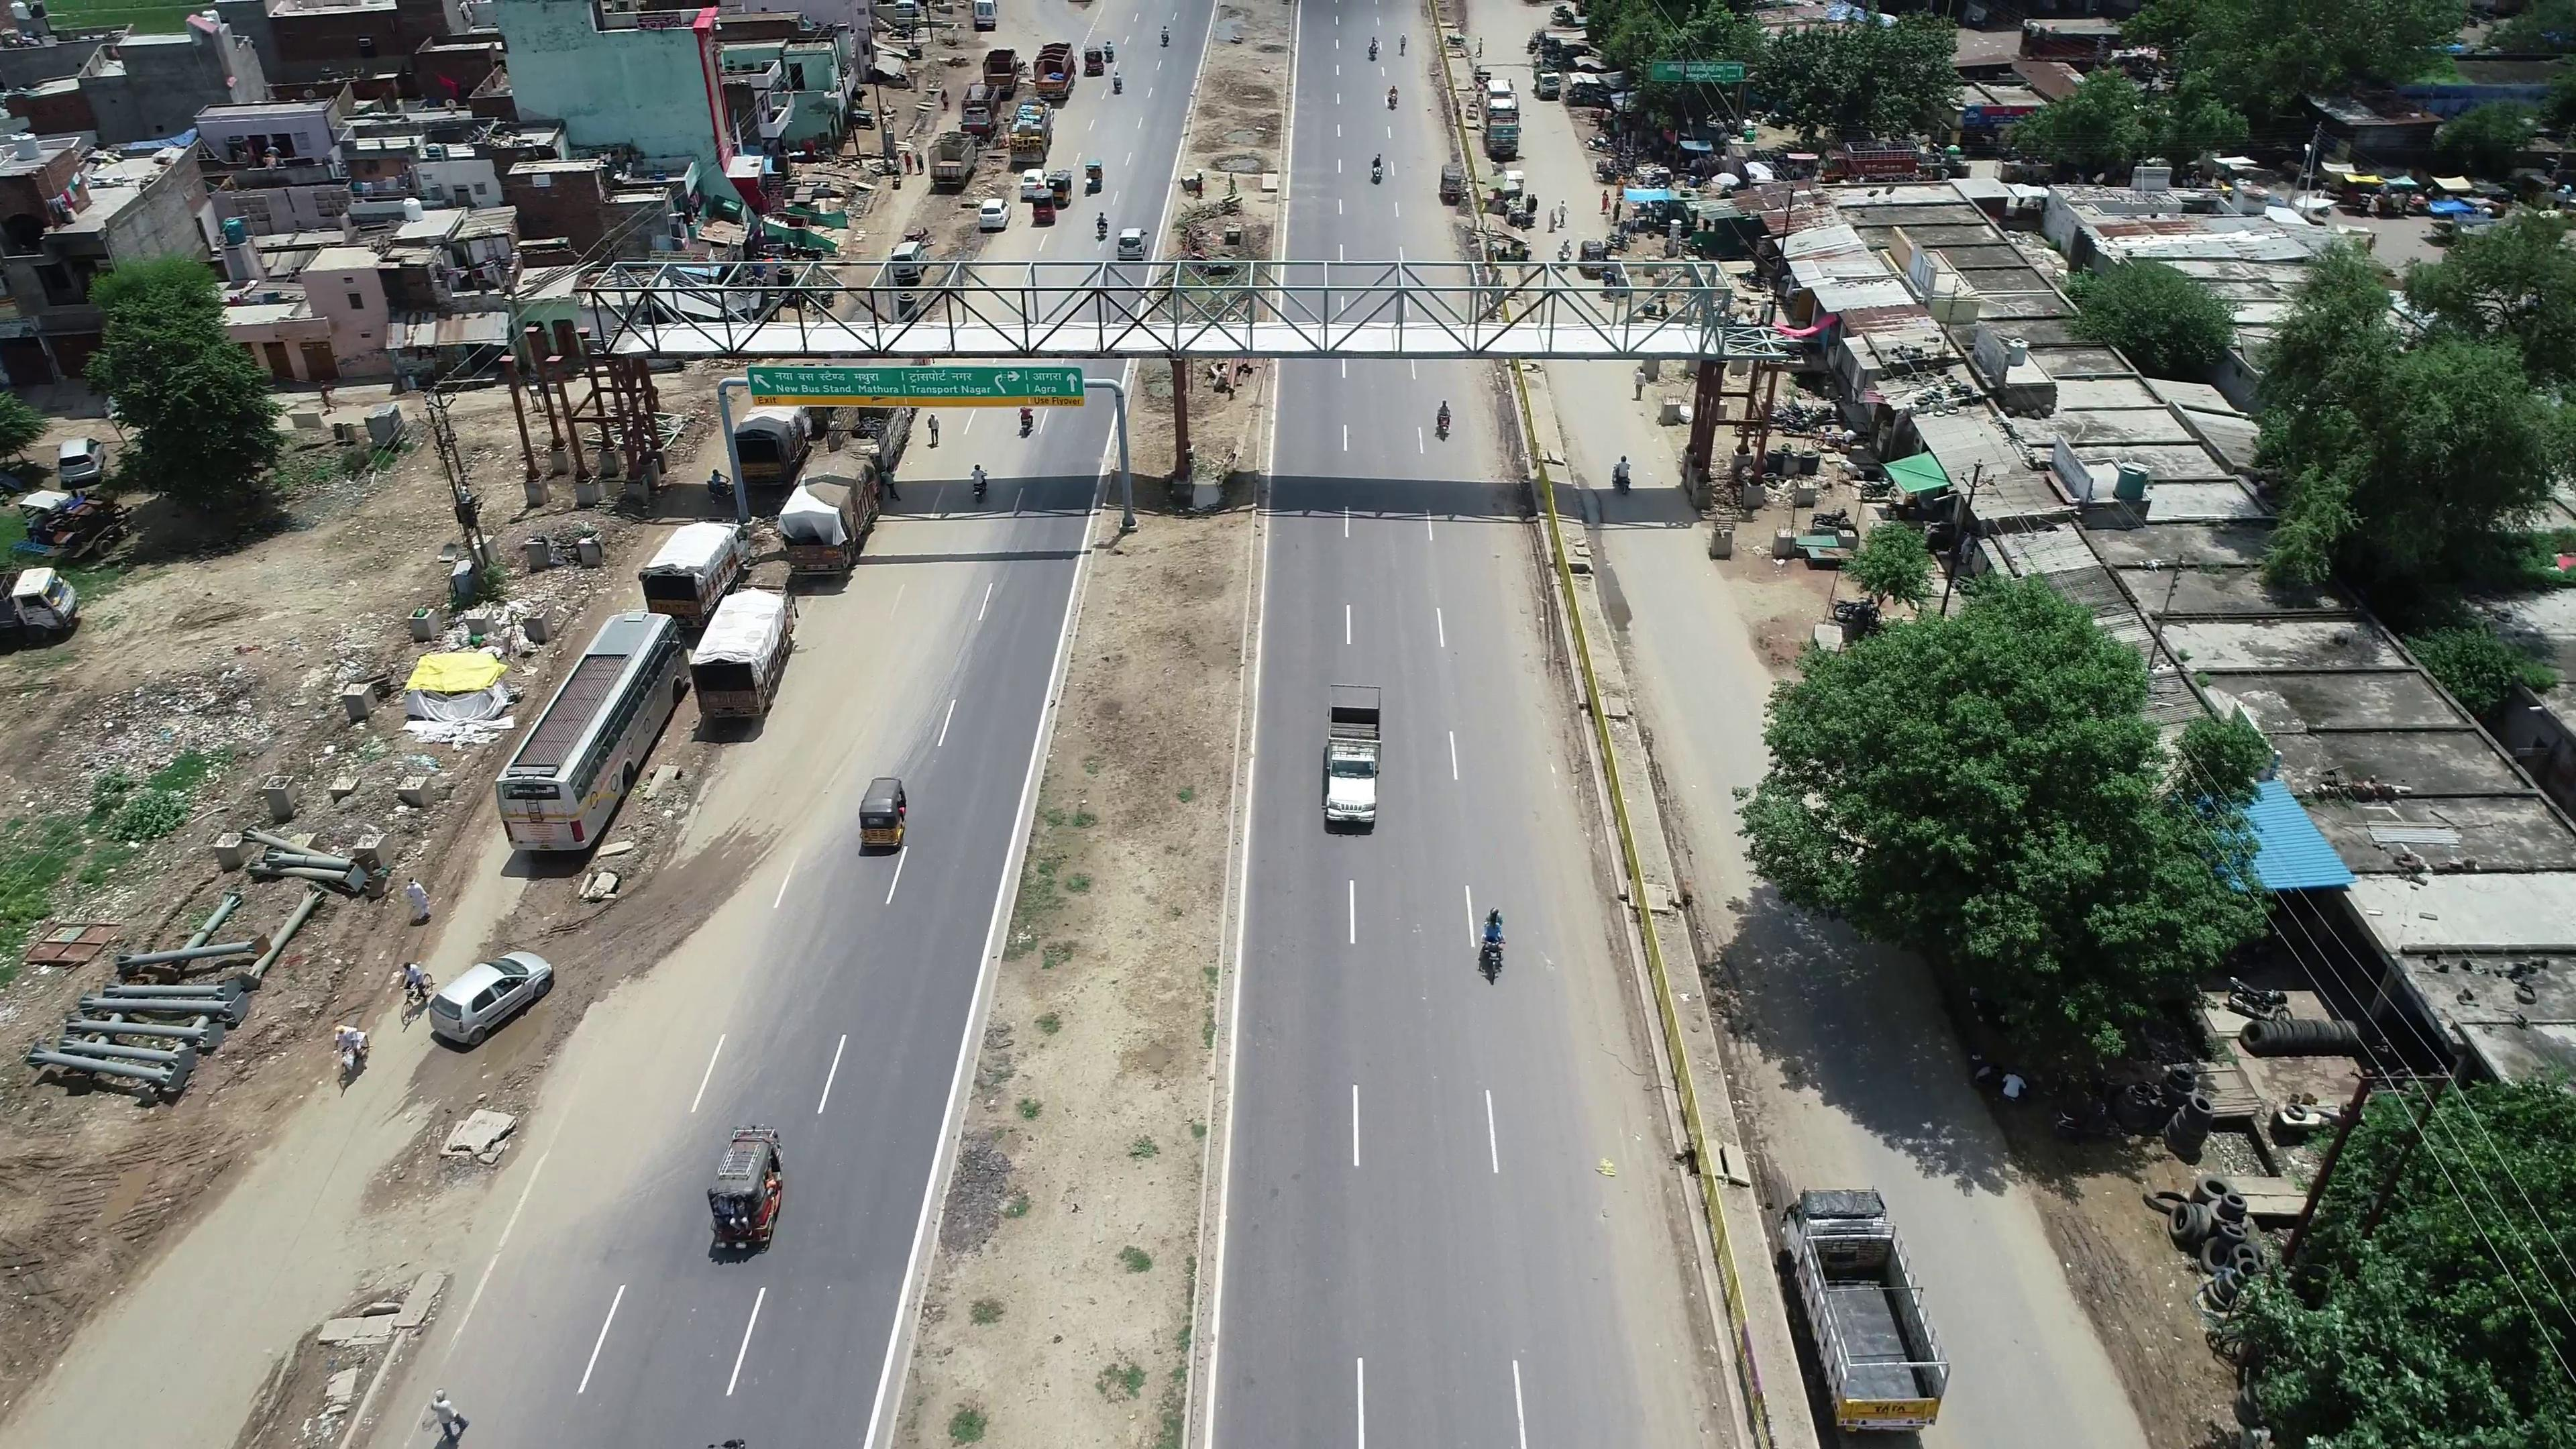Muddy_road: (587, 832, 789, 1090), (791, 580, 897, 782)
